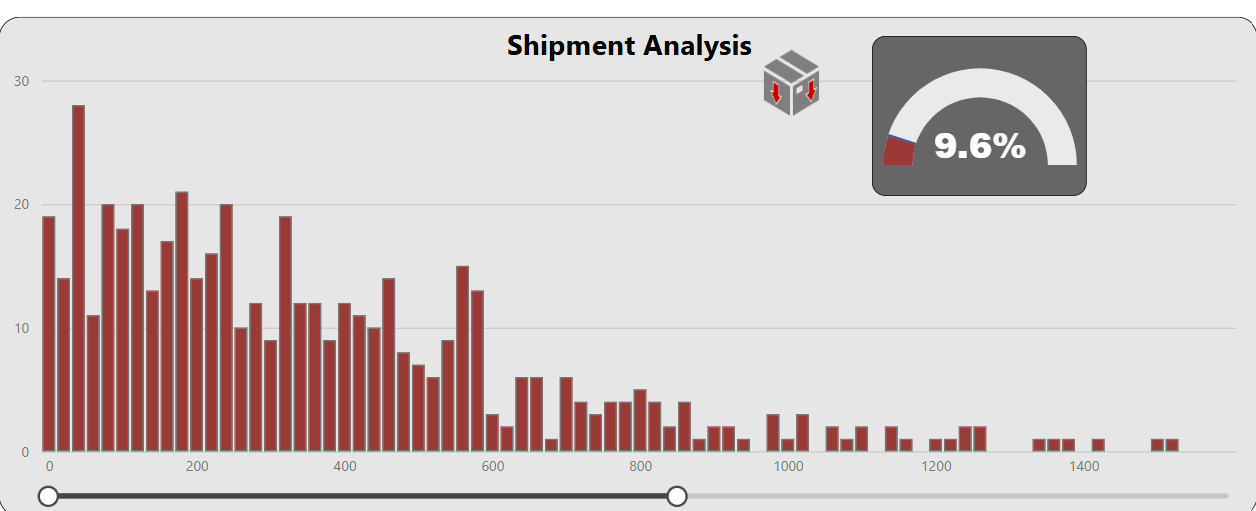

What the dashboard file says about the page in this screenshot:
{"tool":"powerbi","page":{"name":"Page 4","canvas":[1280,720],"ordinal":3},"visuals":[{"type":"columnChart","fields":{"Category":["shipments.Boxes (bins)"],"Y":["_Meaure.Total Shipments"]},"box":[9.6,0,682.1,483.8],"z":0},{"type":"gauge","fields":{"Y":["_Meaure.LBS %"]},"box":[10,494,682,226],"z":1000}]}

Visuals, with their boxes on the page's 1280x720 design canvas (x1, y1, x2, y2). These are canvas units, not pixel positions in the 1256x511 screenshot, which may show the page scaled, cropped or inside an application window:
columnChart - shipments.Boxes (bins) x _Meaure.Total Shipments: (10,0,692,484)
gauge - _Meaure.LBS %: (10,494,692,720)
